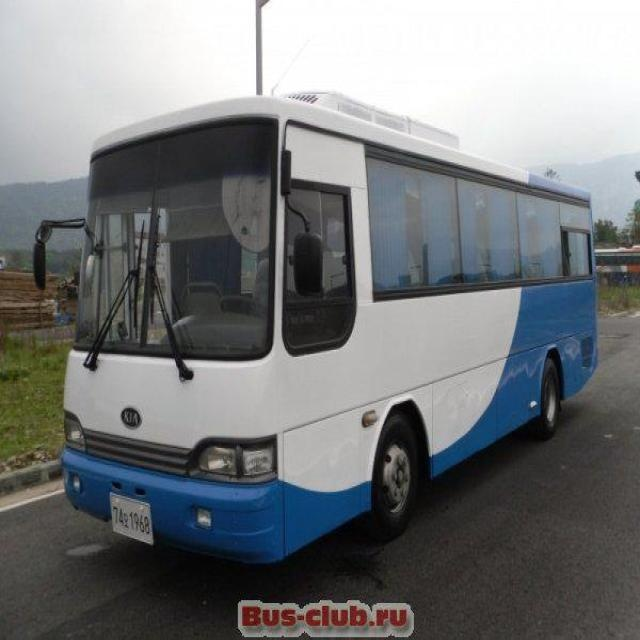Bus: (30, 80, 600, 576)
